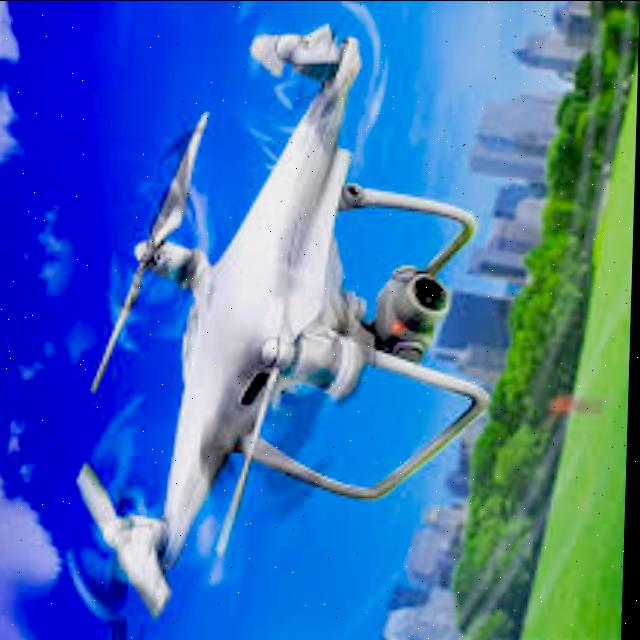drone: (66, 15, 513, 640)
